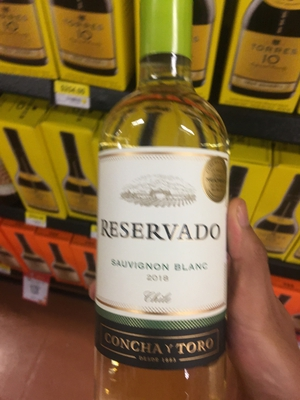reservado sauvignon blanc: (88, 8, 253, 400)
